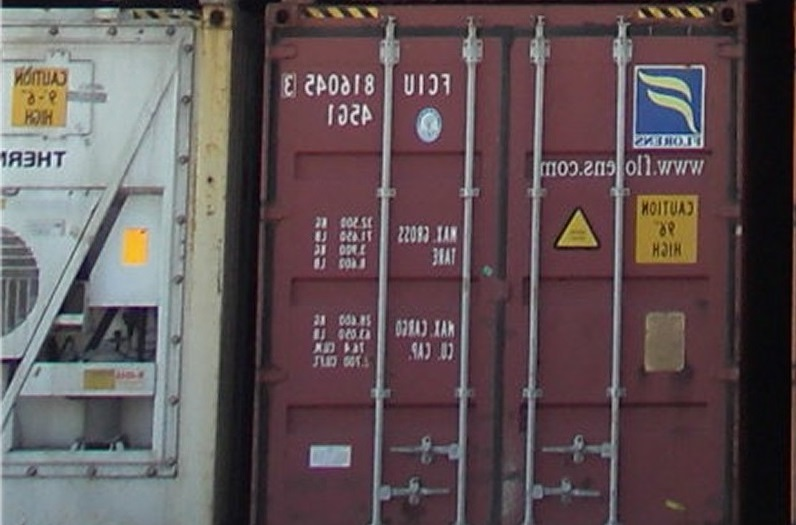container_door: (259, 2, 746, 525)
